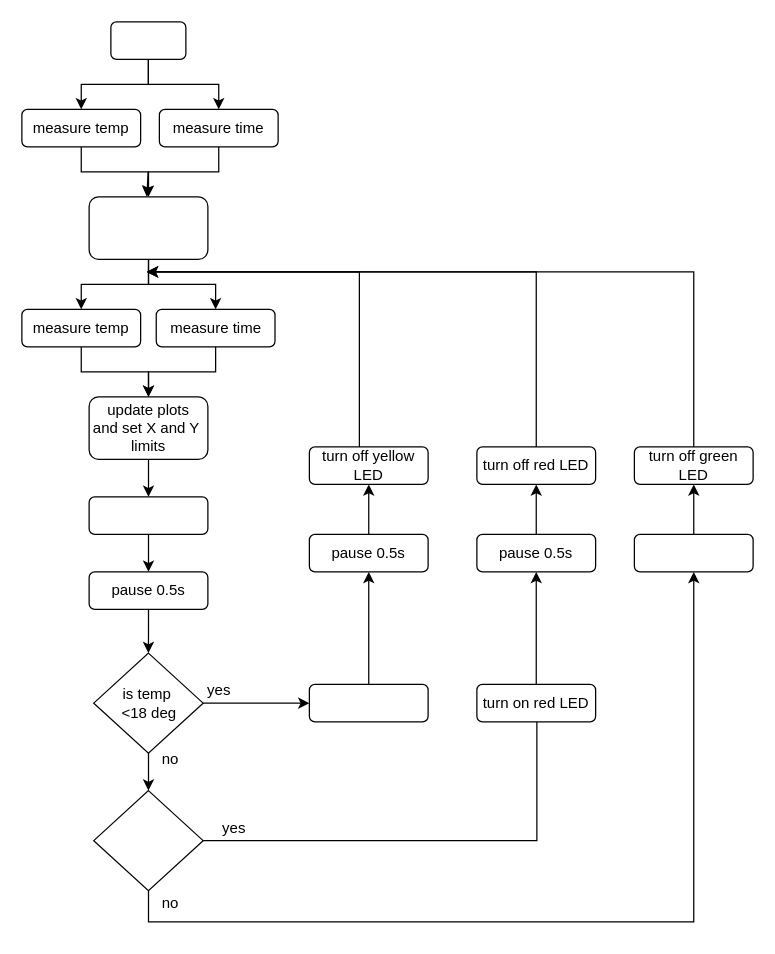
Some shapes in this 775 by 954 pixel diagram are drawn without their labels. The shapes that lost their labels are listed below. From the top down, each one's centre as x and y in pixels, then its label:
At pixel 148 40: "start".
At pixel 148 227: "Plot origonal graph and label axis".
At pixel 148 515: "Replot graph".
At pixel 693 552: "turn on green LED".
At pixel 368 702: "turn on yellow LED".
At pixel 147 840: "is temp >24 deg".
